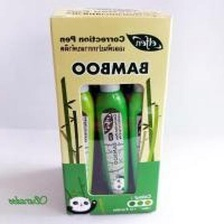book: (46, 4, 179, 219)
correction_fluid: (91, 31, 132, 210), (59, 32, 98, 210), (124, 33, 163, 210)
